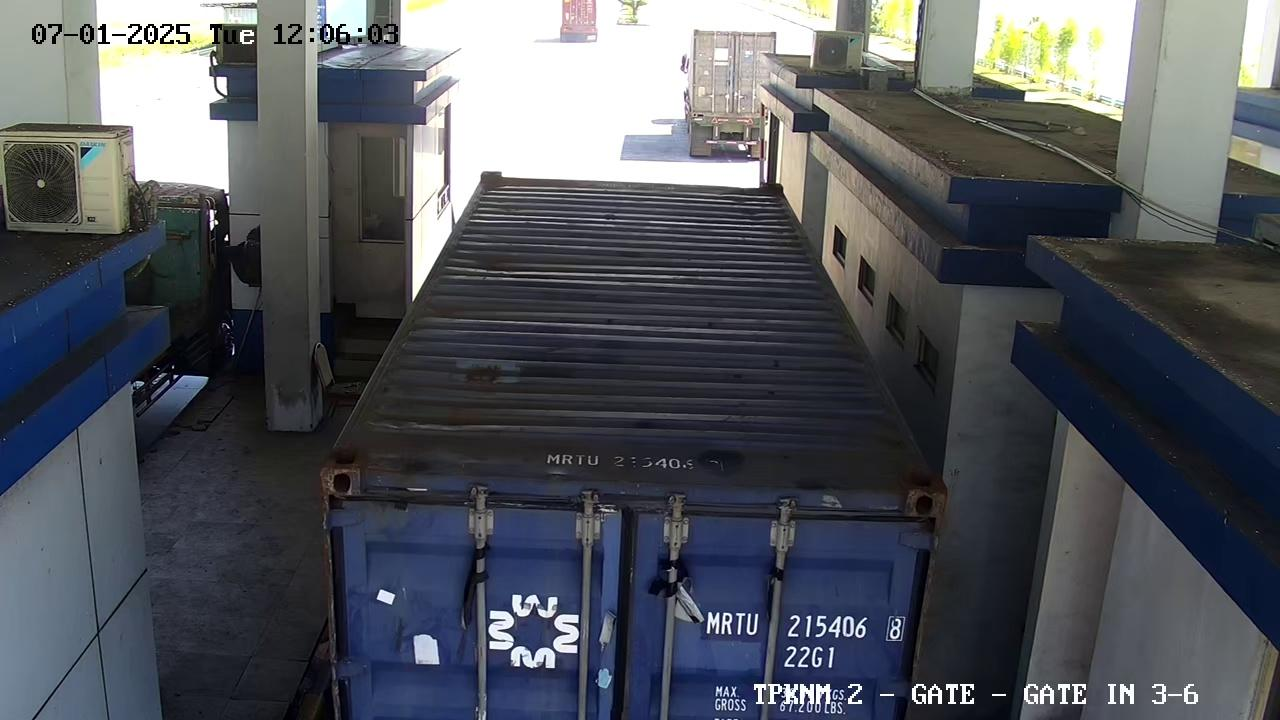Container_ID: (696, 604, 918, 673), (538, 445, 728, 489)
